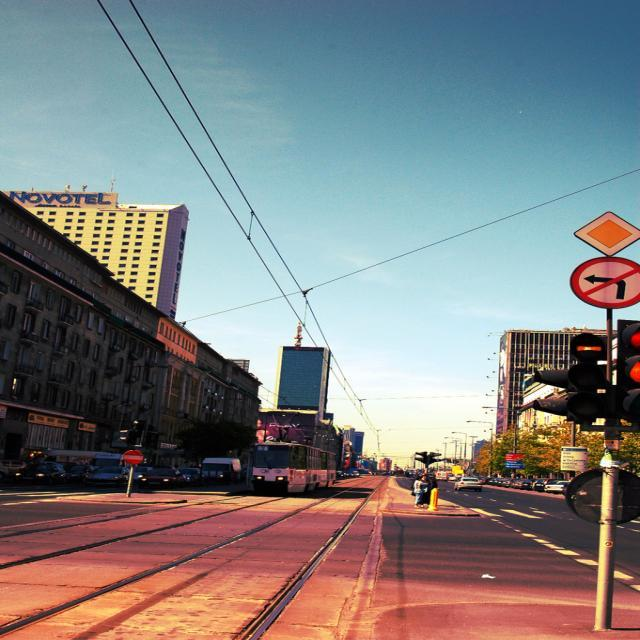traffic light: (569, 331, 608, 422)
